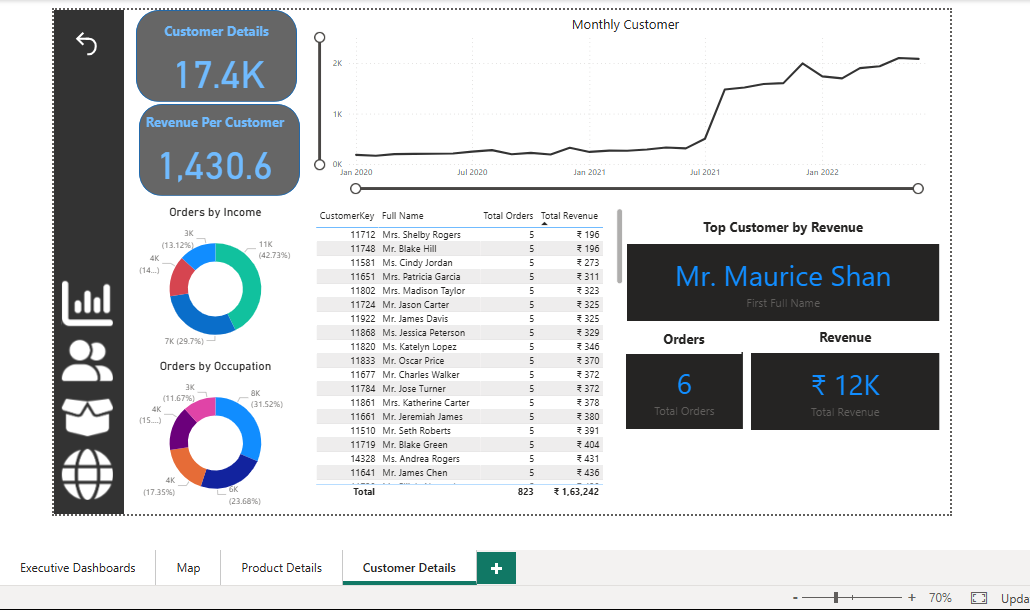

Layout of this report page (visuals, bound fields, positions):
{"tool":"powerbi","page":{"name":"Customer Details","canvas":[1280,720],"ordinal":3},"visuals":[{"type":"shape","title":"Left Nav","box":[0,0,100,720],"z":0},{"type":"shape","title":"KPI Backgroud","box":[117.1,0,230,131.4],"z":0,"group":"g2"},{"type":"card","title":"Total Revenue Card","fields":{"Values":["Measure.Total Customer"]},"box":[119.6,38,230,94.3],"z":0,"group":"g4"},{"type":"group","id":"g1","title":"KPIs","box":[113.9,0,237.5,265.7],"z":1000},{"type":"group","id":"g2","title":"KPI Background","box":[117.1,0,234.3,265.7],"z":1000,"group":"g1"},{"type":"shape","title":"KPI Backgroud","box":[121.4,134.3,230,131.4],"z":1000,"group":"g2"},{"type":"card","title":"Total Profit Card","fields":{"Values":["Measure.Revenue Per customer"]},"box":[113.9,168,230,94.3],"z":1000,"group":"g4"},{"type":"group","id":"g3","title":"KPI Text Box","box":[135.7,10.8,192.9,37.1],"z":2000,"group":"g1"},{"type":"textbox","title":"Total Revenue","box":[135.7,10.8,192.9,37.1],"z":2000,"group":"g3"},{"type":"textbox","title":"Total Revenue","box":[115.7,141.4,228.6,37.1],"z":2000},{"type":"lineChart","title":"Monthly Customer","fields":{"Category":["Calendar_Lookup_CSV.Date Hierarchy.Start of Month"],"Y":["Measure.Total Customer"]},"box":[368.8,7.3,895.6,259],"z":3000},{"type":"group","id":"g4","title":"KPI Card","box":[113.9,38,235.7,224.3],"z":3000,"group":"g1"},{"type":"donutChart","title":"Orders by Income","fields":{"Category":["customer_VW.Income Level"],"Y":["Measure.Total Orders"]},"box":[115.6,278,229.8,221],"z":4000},{"type":"donutChart","title":"Orders by Occupation","fields":{"Y":["Measure.Total Orders"],"Category":["customer_VW.Occupation"]},"box":[115.6,499,229.8,221],"z":5000},{"type":"tableEx","fields":{"Values":["customer_VW.CustomerKey","customer_VW.Full Name","Measure.Total Orders","Measure.Total Revenue"]},"box":[368.6,278.6,448.6,422.9],"z":6000},{"type":"card","fields":{"Values":["Min(customer_VW.Full Name)"]},"box":[818,333.7,446.3,109.8],"z":7000},{"type":"card","fields":{"Values":["Measure.Total Orders"]},"box":[816.6,488.8,166.8,109.8],"z":8000},{"type":"card","fields":{"Values":["Measure.Total Revenue"]},"box":[995.1,490.2,269.3,109.8],"z":9000},{"type":"textbox","box":[818,291.2,446.3,39.5],"z":10000},{"type":"textbox","box":[816.6,450.7,165.4,39.5],"z":11000},{"type":"textbox","box":[995.1,449.3,269.3,39.5],"z":12000},{"type":"actionButton","box":[24.3,22.9,44.3,50],"z":12001},{"type":"actionButton","box":[7.1,460,85.7,81.4],"z":12002},{"type":"actionButton","box":[7.1,378.6,85.7,81.4],"z":12003},{"type":"actionButton","box":[7.1,541.4,85.7,81.4],"z":12004},{"type":"actionButton","box":[7.1,622.9,85.7,81.4],"z":12005}]}

Visuals, with their boxes on the page's 1280x720 design canvas (x1, y1, x2, y2). These are canvas units, not pixel positions in the 1030x610 screenshot, which may show the page scaled, cropped or inside an application window:
"Left Nav" shape: rect(0, 0, 100, 720)
"KPI Backgroud" shape: rect(117, 0, 347, 131)
"Total Revenue Card" card: rect(120, 38, 350, 132)
"KPIs" group: rect(114, 0, 351, 266)
"KPI Background" group: rect(117, 0, 351, 266)
"KPI Backgroud" shape: rect(121, 134, 351, 266)
"Total Profit Card" card: rect(114, 168, 344, 262)
"KPI Text Box" group: rect(136, 11, 329, 48)
"Total Revenue" textbox: rect(136, 11, 329, 48)
"Total Revenue" textbox: rect(116, 141, 344, 178)
"Monthly Customer" lineChart: rect(369, 7, 1264, 266)
"KPI Card" group: rect(114, 38, 350, 262)
"Orders by Income" donutChart: rect(116, 278, 345, 499)
"Orders by Occupation" donutChart: rect(116, 499, 345, 720)
tableEx - customer_VW.CustomerKey x customer_VW.Full Name: rect(369, 279, 817, 702)
card - Min(customer_VW.Full Name): rect(818, 334, 1264, 444)
card - Measure.Total Orders: rect(817, 489, 983, 599)
card - Measure.Total Revenue: rect(995, 490, 1264, 600)
textbox: rect(818, 291, 1264, 331)
textbox: rect(817, 451, 982, 490)
textbox: rect(995, 449, 1264, 489)
actionButton: rect(24, 23, 69, 73)
actionButton: rect(7, 460, 93, 541)
actionButton: rect(7, 379, 93, 460)
actionButton: rect(7, 541, 93, 623)
actionButton: rect(7, 623, 93, 704)
